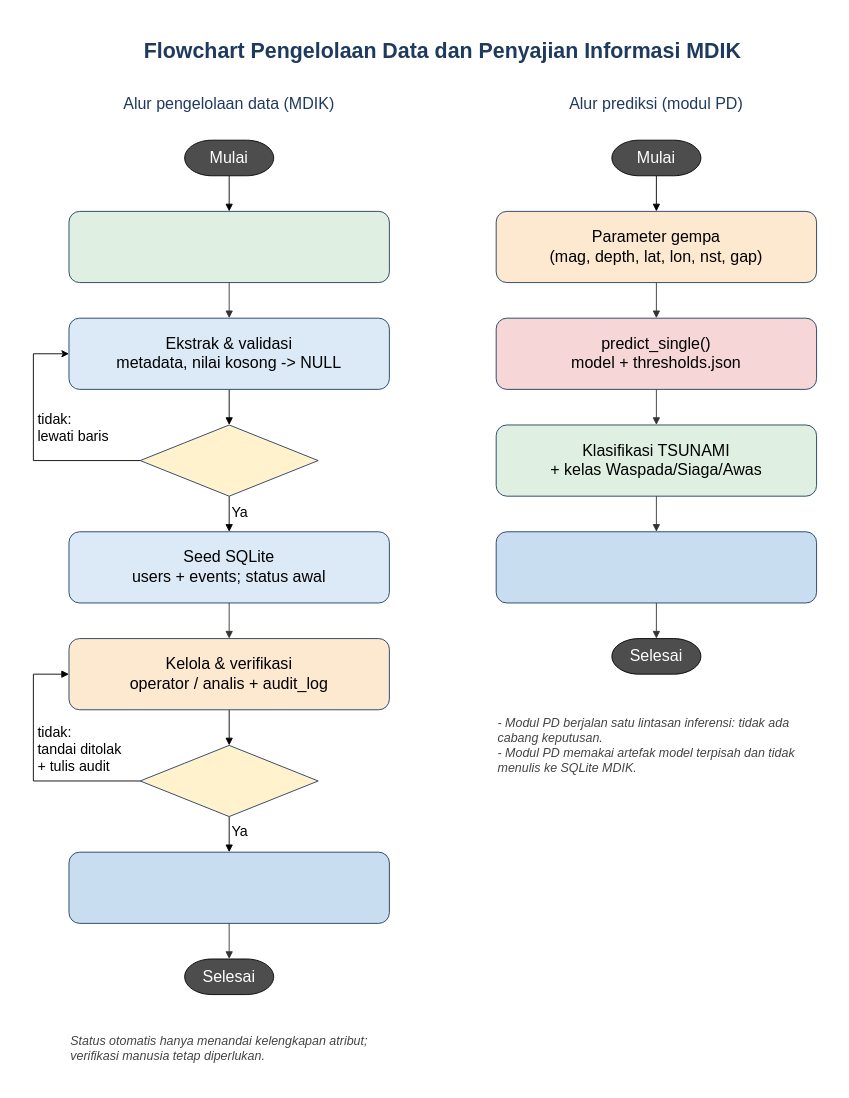
Image size: 849x1098. Some labels were removed from this diagram. Here are the shapes that lost their labels. From the top down, the box of each, then its label:
(68, 210, 389, 283): CSV NOAA/NCEI 3.129 event (ekstrak lokal)
(139, 424, 318, 496): Baris valid?
(495, 531, 817, 603): Tampilkan prediksi + probabilitas
(139, 744, 318, 817): Disetujui analis?
(68, 851, 389, 923): Sajikan: dashboard, peta, ekspor CSV
